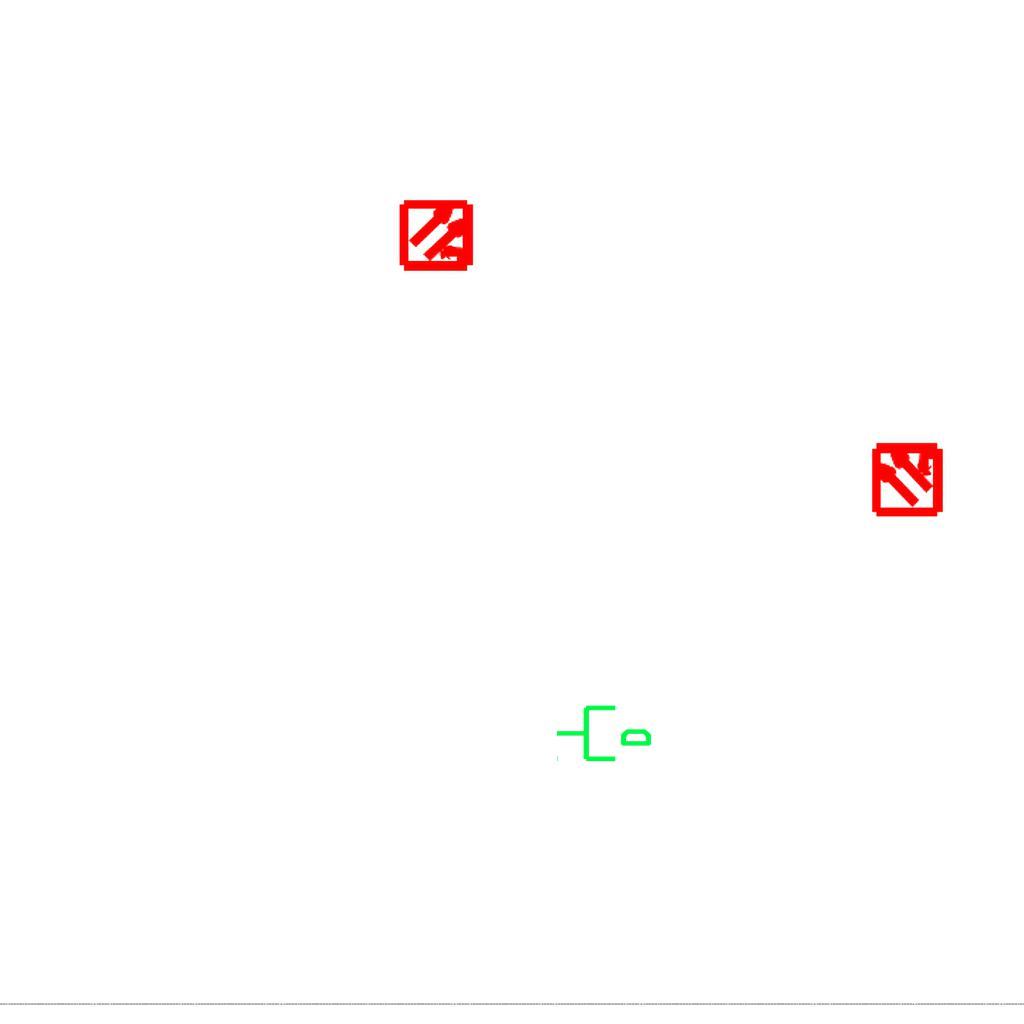Datenanschluss_einfach: (554, 697, 654, 766)
OT_Multisensormelder_(Kombination_RMO_WMD): (382, 179, 495, 292), (851, 421, 964, 534)
